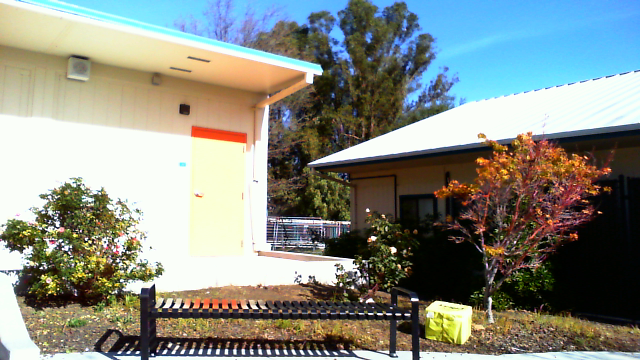cube: (425, 300, 472, 344)
